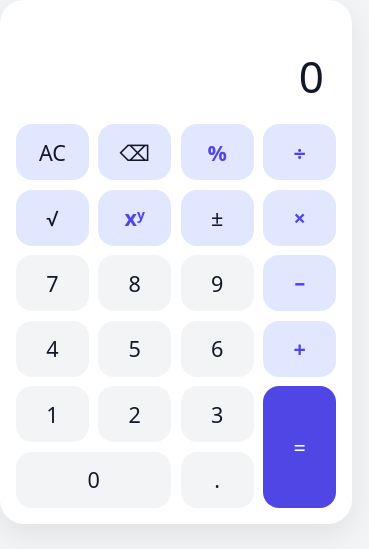
Calculator › 2 + 3 = shows 5
Click the button "2" at (135, 414), box x1=98 y1=386 x2=171 y2=442
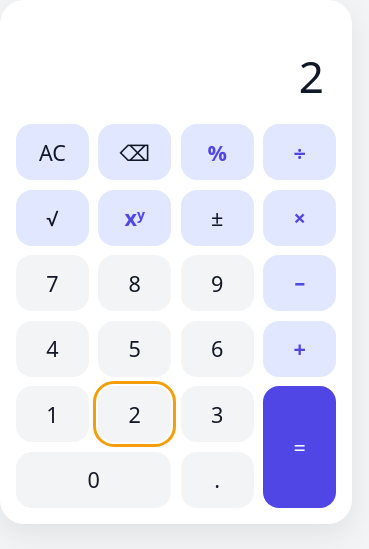
Click the button named "add" at (300, 349), box x1=263 y1=321 x2=336 y2=377
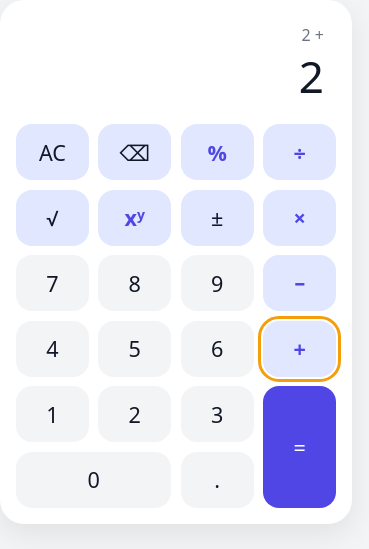
Click the button "3" at (217, 414), box x1=181 y1=386 x2=254 y2=442
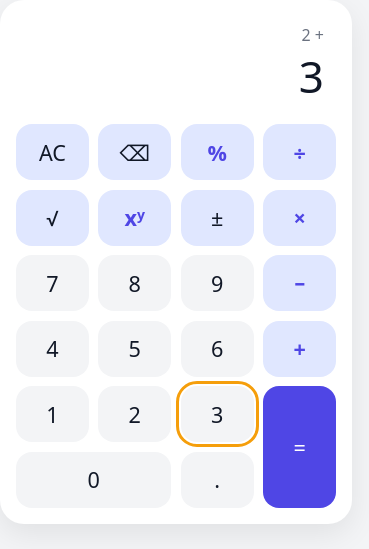
Click the button named "equals" at (300, 447), box x1=263 y1=386 x2=336 y2=508
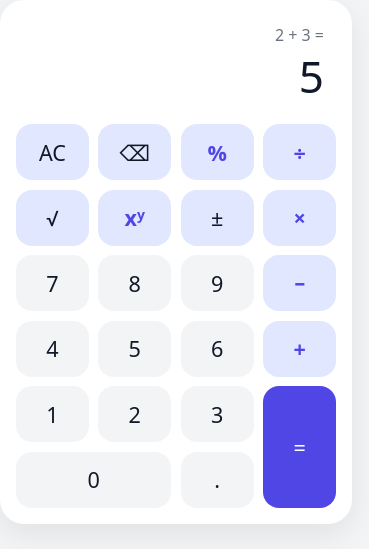
Expected: the text named "result" reads "5", x1=299 y1=46 x2=324 y2=106
Expected: the text with test id "expression" reads "2 + 3 =", x1=275 y1=24 x2=324 y2=46
